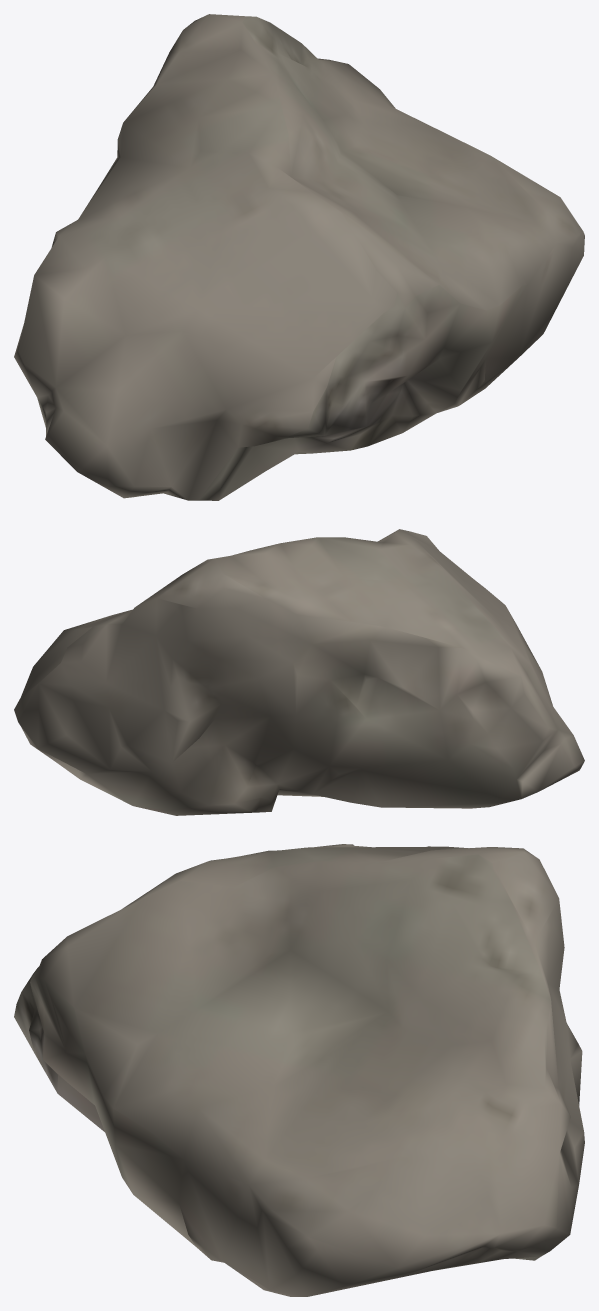
The model's file is moon_rock_03_lod2.glb.
The picture shows the model from 3 angles, top to bottom: view 1: azimuth 30°, elevation 25°; view 2: azimuth 150°, elevation 25°; view 3: azimuth 270°, elevation 25°; orthographic projection. The views are drawn at different scales.
Parts seen in each view (by area): view 1: moon_rock_03_LOD0; view 2: moon_rock_03_LOD0; view 3: moon_rock_03_LOD0.
Part boxes in pixels (bbox=[...]): moon_rock_03_LOD0: bbox=[14, 14, 584, 500]; moon_rock_03_LOD0: bbox=[14, 529, 584, 815]; moon_rock_03_LOD0: bbox=[14, 844, 584, 1296].
Bounding box in the file's own units: 0.112 × 0.0582 × 0.0861.
Materials: 1 (1 with a texture image).
